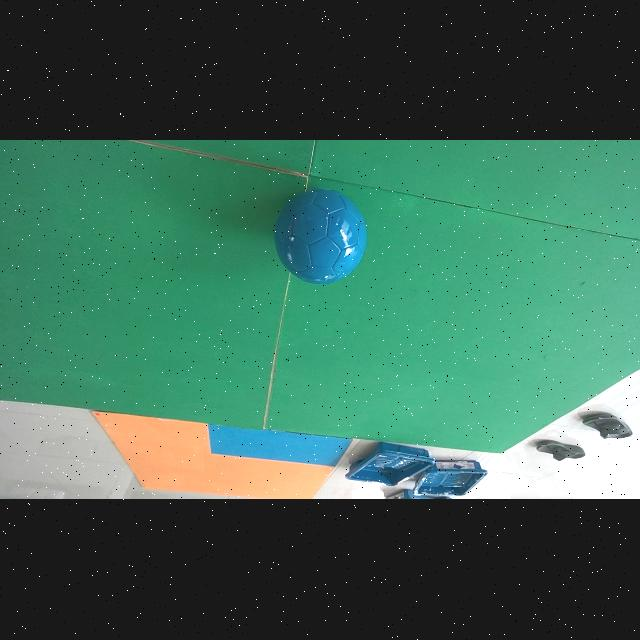B: (274, 191, 366, 285)
